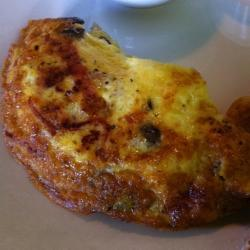omelette: (10, 26, 244, 233)
